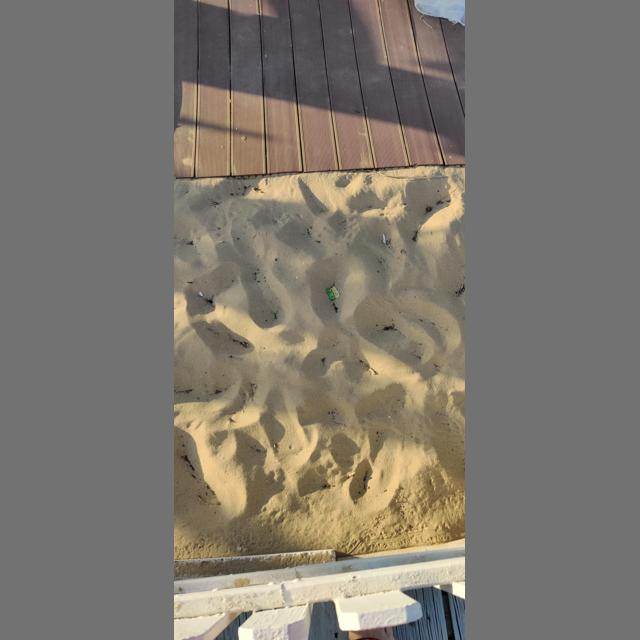litter: (327, 286, 340, 300), (383, 233, 386, 244)
